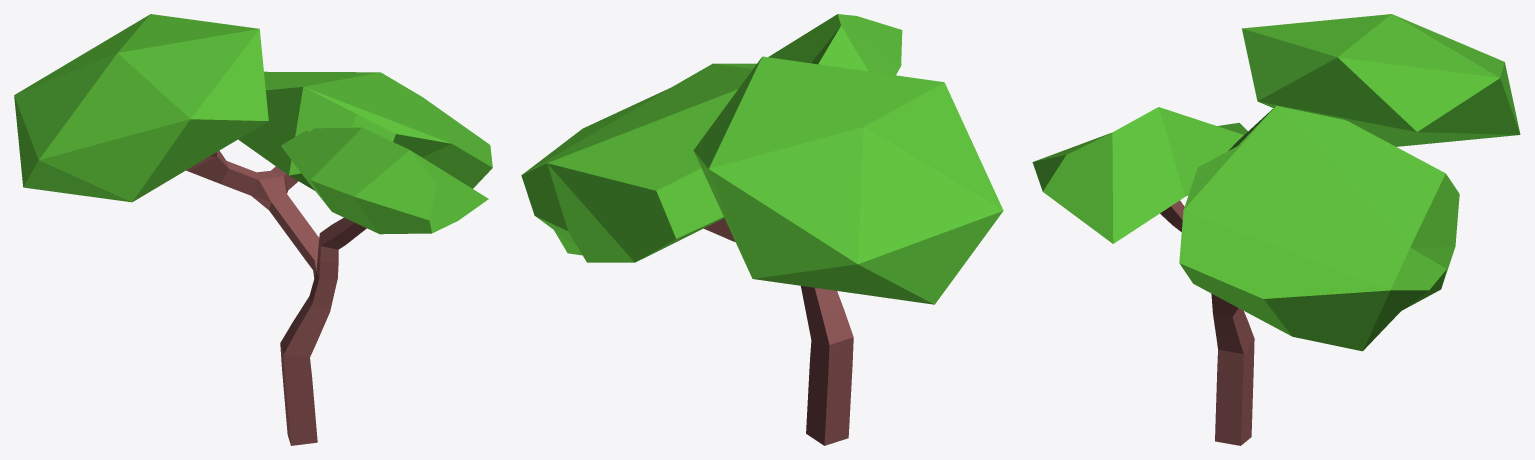
The model's file is Tree.fbx.
3 views of the same model, side by side, from view 1: azimuth 30°, elevation 25°; view 2: azimuth 150°, elevation 25°; view 3: azimuth 270°, elevation 25° (orthographic). The views are drawn at different scales.
Visible parts, largest first — view 1: Icosphère.003; view 2: Icosphère.003; view 3: Icosphère.003.
Boxes of the visible parts, bbox=[...] form: Icosphère.003: bbox=[14, 14, 492, 445]; Icosphère.003: bbox=[521, 14, 1003, 445]; Icosphère.003: bbox=[1032, 14, 1520, 445].
Bounding box in the file's own units: 881 × 870 × 760.
